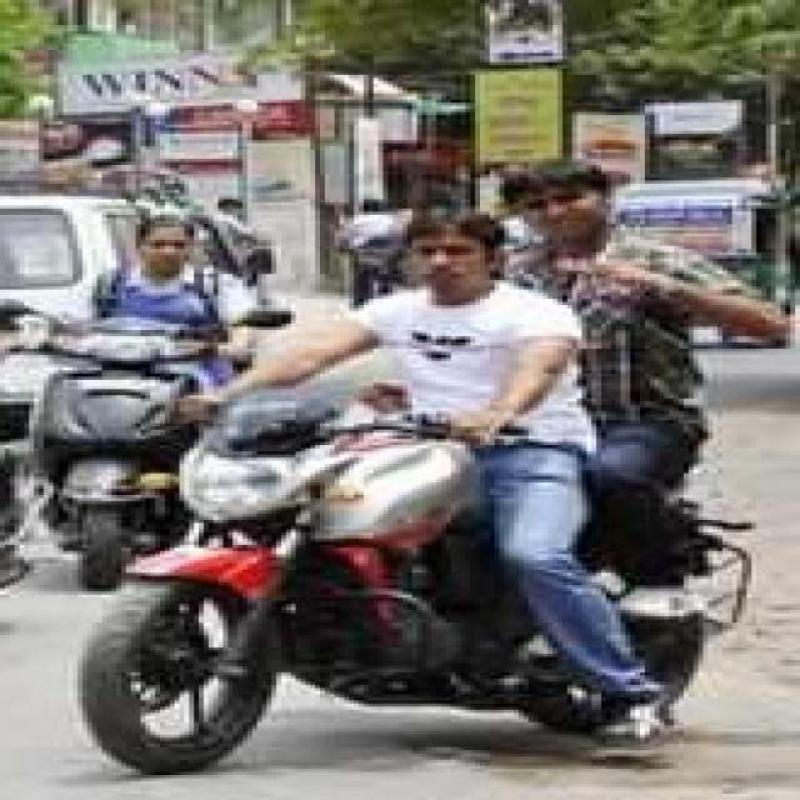nohelmet: (497, 140, 652, 236), (380, 205, 515, 305)
